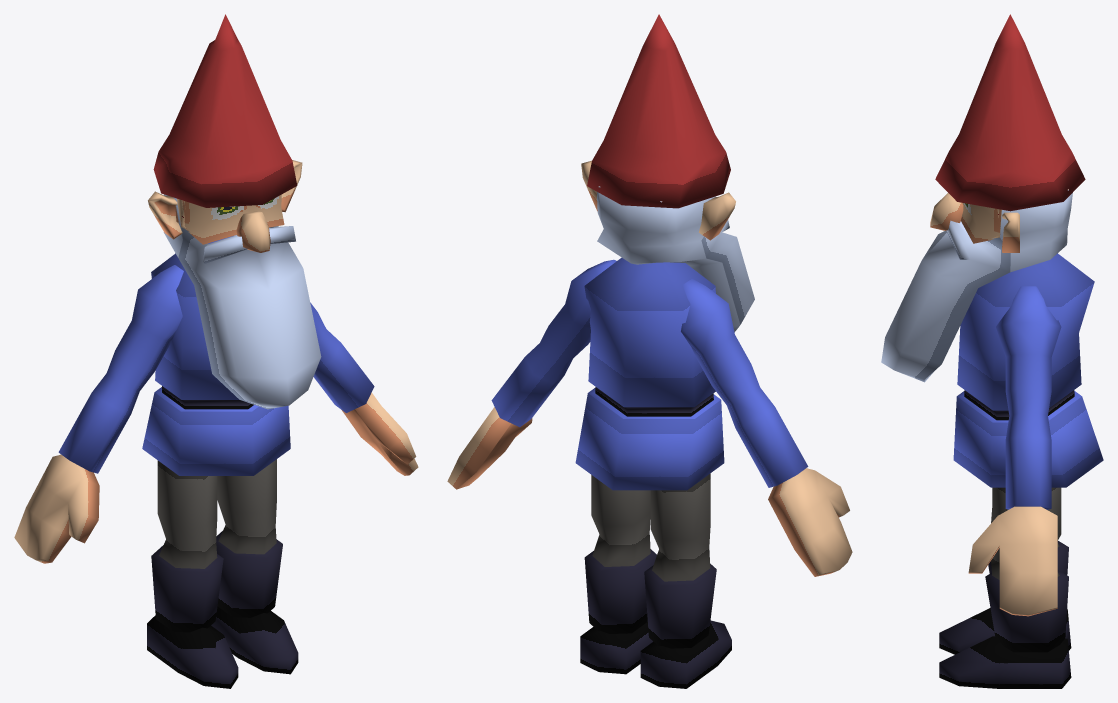
File: Gnome.glb
3 renders of one model, left to right at view 1: azimuth 30°, elevation 25°; view 2: azimuth 150°, elevation 25°; view 3: azimuth 270°, elevation 25°, orthographic.
Parts seen in each view (by area): view 1: Beard, Leg, Hat, Body, Arm, Hand, Foot, Face, Ear, Nose; view 2: Body, Leg, Hat, Arm, Beard, Hand, Foot, Ear; view 3: Body, Hat, Beard, Arm, Hand, Foot, Leg, Face, Nose, Ear.
Boxes of the visible parts, x1,y1,x2,y2 form: Beard: (163, 194, 321, 409); Leg: (151, 459, 282, 632); Hat: (153, 14, 297, 207); Body: (142, 236, 290, 475); Arm: (58, 265, 374, 473); Hand: (14, 392, 418, 563); Foot: (147, 606, 298, 688); Face: (175, 194, 284, 244); Ear: (148, 160, 302, 239); Nose: (236, 211, 270, 252); Body: (575, 257, 724, 490); Leg: (584, 473, 716, 648); Hat: (587, 14, 730, 208); Arm: (491, 259, 808, 487); Beard: (597, 186, 754, 332); Hand: (447, 407, 852, 576); Foot: (580, 620, 731, 688); Ear: (581, 160, 735, 240); Body: (953, 253, 1103, 487); Hat: (935, 14, 1085, 211); Beard: (881, 189, 1072, 382); Arm: (996, 286, 1061, 509); Hand: (968, 506, 1057, 616); Foot: (939, 608, 1071, 688); Leg: (985, 487, 1068, 652); Face: (961, 203, 1001, 243); Nose: (930, 193, 963, 230); Ear: (1002, 212, 1019, 252).
Bounding box in the file's own units: 1.39 × 2.25 × 0.6981.
Materials: 1 (1 with a texture image).
